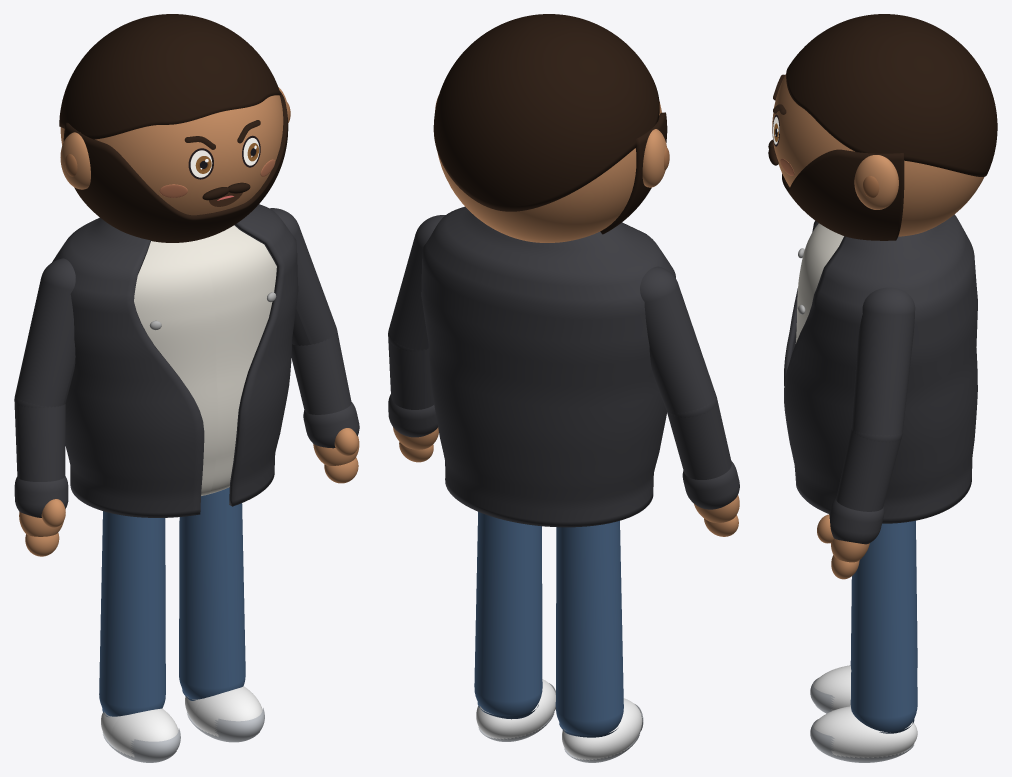
Rendered from pestkop_volwassen.glb.
3 views of the same model, side by side, from view 1: azimuth 30°, elevation 25°; view 2: azimuth 150°, elevation 25°; view 3: azimuth 270°, elevation 25° (orthographic).
Visible parts, largest first — view 1: pestkop_volwassen_jas, pestkop_volwassen_romp, pestkop_volwassen_haar, pestkop_volwassen_been_R, pestkop_volwassen_been_L, pestkop_volwassen_hoofd, pestkop_volwassen_baard, pestkop_volwassen_bovenarm_R, pestkop_volwassen_onderarm_R, pestkop_volwassen_onderarm_L, pestkop_volwassen_bovenarm_L, pestkop_volwassen_schoen_R (+9 smaller); view 2: pestkop_volwassen_jas, pestkop_volwassen_haar, pestkop_volwassen_been_R, pestkop_volwassen_been_L, pestkop_volwassen_hoofd, pestkop_volwassen_bovenarm_R, pestkop_volwassen_onderarm_R, pestkop_volwassen_bovenarm_L, pestkop_volwassen_onderarm_L, pestkop_volwassen_schoen_R, pestkop_volwassen_schoen_L, pestkop_volwassen_manchet_R (+4 smaller); view 3: pestkop_volwassen_jas, pestkop_volwassen_haar, pestkop_volwassen_been_L, pestkop_volwassen_bovenarm_L, pestkop_volwassen_hoofd, pestkop_volwassen_baard, pestkop_volwassen_onderarm_L, pestkop_volwassen_schoen_L, pestkop_volwassen_romp, pestkop_volwassen_manchet_L, pestkop_volwassen_oor_L, pestkop_volwassen_schoen_R (+5 smaller).
Boxes of the visible parts, left/top/right/bottom form: pestkop_volwassen_jas: left=52, top=204, right=298, bottom=517; pestkop_volwassen_romp: left=134, top=225, right=276, bottom=495; pestkop_volwassen_haar: left=59, top=14, right=280, bottom=139; pestkop_volwassen_been_R: left=99, top=511, right=165, bottom=716; pestkop_volwassen_been_L: left=179, top=487, right=245, bottom=699; pestkop_volwassen_hoofd: left=60, top=95, right=283, bottom=215; pestkop_volwassen_baard: left=63, top=91, right=288, bottom=242; pestkop_volwassen_bovenarm_R: left=14, top=258, right=75, bottom=407; pestkop_volwassen_onderarm_R: left=14, top=396, right=65, bottom=481; pestkop_volwassen_onderarm_L: left=291, top=331, right=351, bottom=414; pestkop_volwassen_bovenarm_L: left=270, top=208, right=336, bottom=345; pestkop_volwassen_schoen_R: left=101, top=708, right=178, bottom=757; pestkop_volwassen_jas: left=421, top=206, right=675, bottom=527; pestkop_volwassen_haar: left=433, top=14, right=659, bottom=211; pestkop_volwassen_been_R: left=555, top=521, right=623, bottom=735; pestkop_volwassen_been_L: left=474, top=511, right=542, bottom=716; pestkop_volwassen_hoofd: left=437, top=101, right=661, bottom=242; pestkop_volwassen_bovenarm_R: left=640, top=266, right=716, bottom=417; pestkop_volwassen_onderarm_R: left=666, top=400, right=731, bottom=479; pestkop_volwassen_bovenarm_L: left=388, top=215, right=445, bottom=350; pestkop_volwassen_onderarm_L: left=388, top=338, right=434, bottom=409; pestkop_volwassen_schoen_R: left=562, top=698, right=642, bottom=760; pestkop_volwassen_schoen_L: left=476, top=679, right=555, bottom=739; pestkop_volwassen_manchet_R: left=682, top=461, right=739, bottom=509; pestkop_volwassen_jas: left=784, top=214, right=977, bottom=523; pestkop_volwassen_haar: left=786, top=14, right=997, bottom=176; pestkop_volwassen_been_L: left=850, top=521, right=917, bottom=732; pestkop_volwassen_bovenarm_L: left=851, top=287, right=915, bottom=441; pestkop_volwassen_hoofd: left=772, top=74, right=984, bottom=236; pestkop_volwassen_baard: left=782, top=149, right=904, bottom=240; pestkop_volwassen_onderarm_L: left=836, top=429, right=902, bottom=511; pestkop_volwassen_schoen_L: left=813, top=706, right=917, bottom=758; pestkop_volwassen_romp: left=795, top=223, right=843, bottom=343; pestkop_volwassen_manchet_L: left=829, top=498, right=884, bottom=544; pestkop_volwassen_oor_L: left=854, top=155, right=898, bottom=209; pestkop_volwassen_schoen_R: left=813, top=665, right=851, bottom=710.
Size of the model in its own units: 0.9195 by 1.86 by 0.54.
